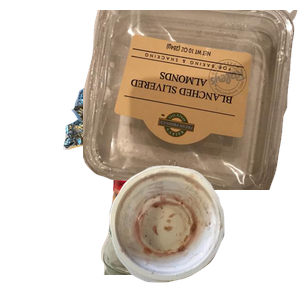glass: (98, 120, 286, 300)
metal: (61, 54, 225, 202)
plastic: (83, 10, 300, 190)
trash: (107, 163, 300, 300)
